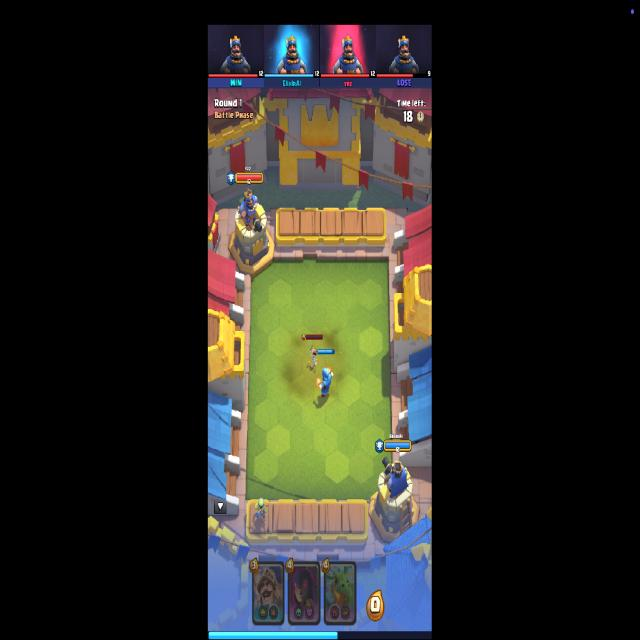card_baby_drag: (324, 560, 356, 626)
card_prince: (252, 560, 285, 627)
card_witch: (288, 560, 320, 625)
skeleton: (310, 344, 318, 368)
spear_goblin: (255, 497, 269, 523)
wizard: (317, 366, 334, 398)
